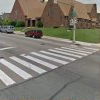crosswalk: (0, 47, 94, 85)
